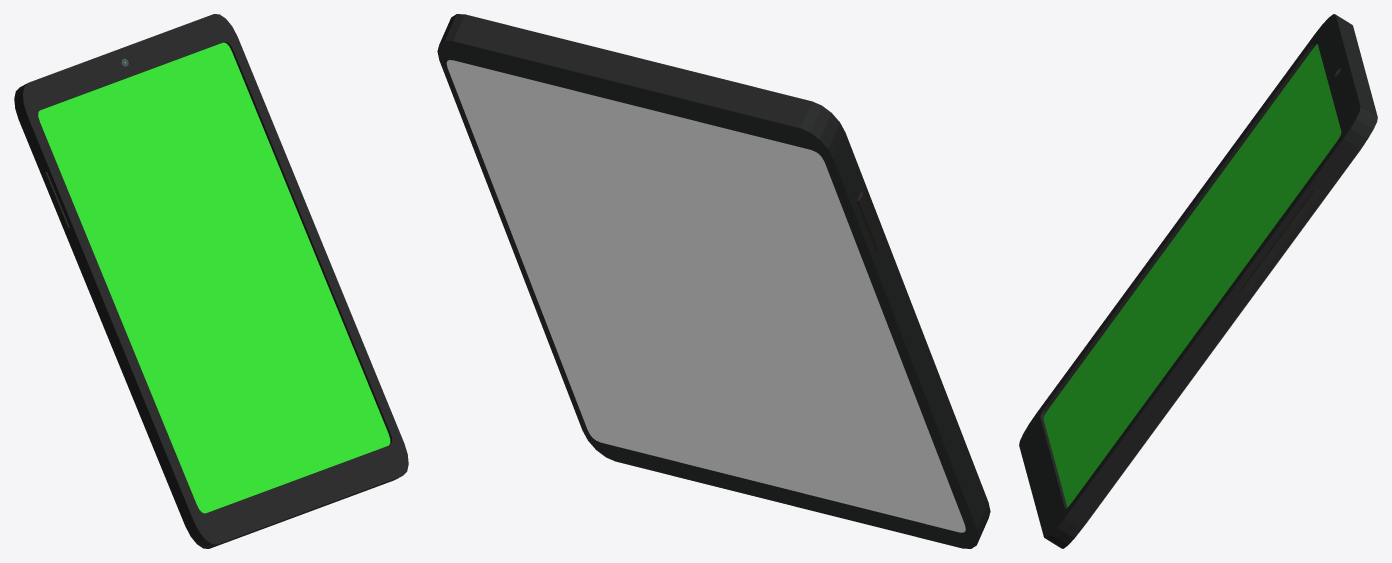
The model's file is tablet.fbx.
3 views of the same model, side by side, from view 1: azimuth 30°, elevation 25°; view 2: azimuth 150°, elevation 25°; view 3: azimuth 270°, elevation 25° (orthographic). The views are drawn at different scales.
Visible parts, largest first — view 1: Cube; view 2: Cube; view 3: Cube, Cube.002.
Part boxes in pixels (x1,y1,x2,y2): Cube: (14, 14, 408, 548); Cube: (437, 14, 990, 548); Cube: (1019, 14, 1377, 548); Cube.002: (1242, 189, 1321, 292).
Bounding box in the file's own units: 82.83 × 117 × 88.07.
